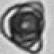correct: (1, 0, 47, 54)
